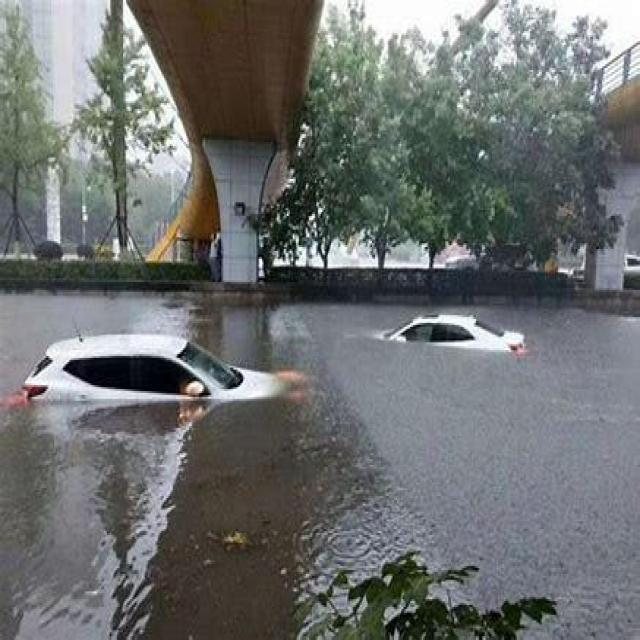water: (2, 339, 638, 639), (1, 290, 639, 405)
